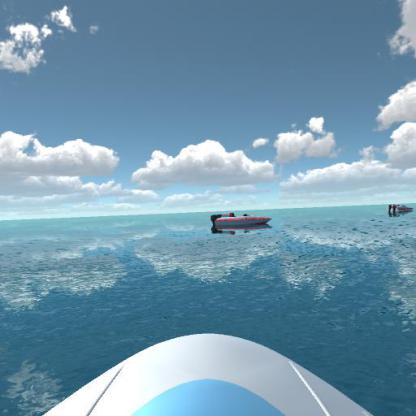usv3: (205, 204, 275, 236), (384, 198, 414, 218)
